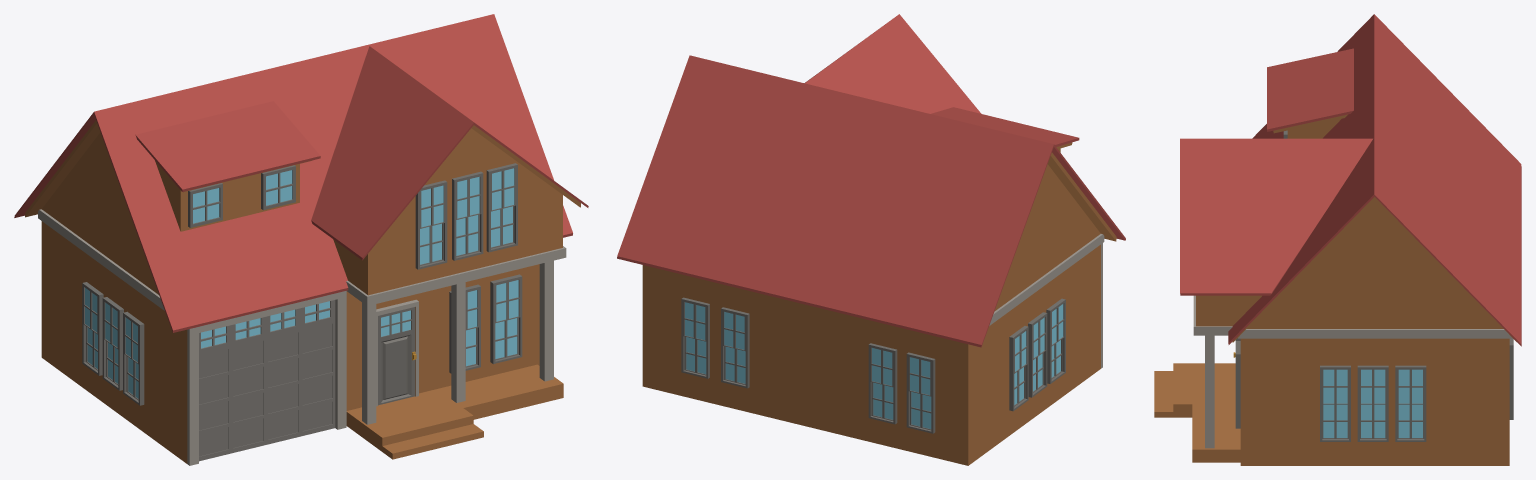
File: SM_house_05_A.gltf
3 renders of one model, left to right at view 1: azimuth 30°, elevation 25°; view 2: azimuth 150°, elevation 25°; view 3: azimuth 270°, elevation 25°, orthographic. The views are drawn at different scales.
Parts seen in each view (by area): view 1: SM_house_05_A; view 2: SM_house_05_A; view 3: SM_house_05_A.
Boxes of the visible parts, x1,y1,x2,y2 form: SM_house_05_A: (14, 14, 588, 465); SM_house_05_A: (617, 14, 1125, 465); SM_house_05_A: (1154, 14, 1521, 465).
Bounding box in the file's own units: 4.15 × 3.02 × 3.57.
